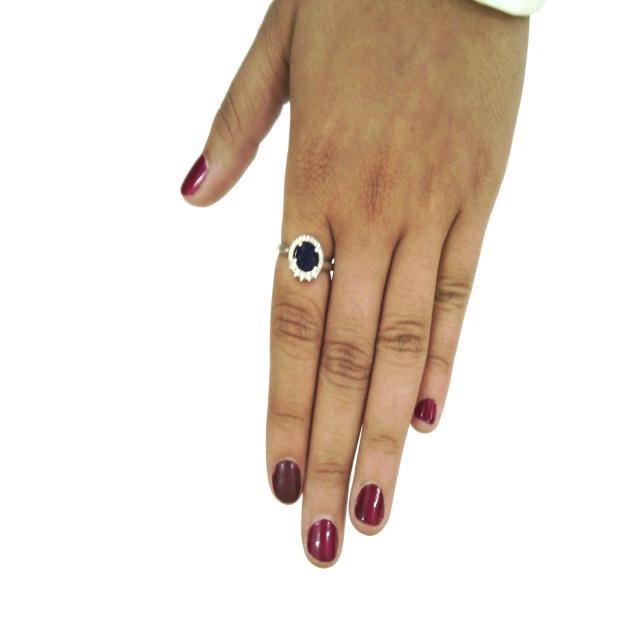Fingernail: (307, 518, 337, 564), (273, 460, 300, 504), (355, 485, 384, 525), (182, 156, 207, 196), (416, 399, 436, 424)
